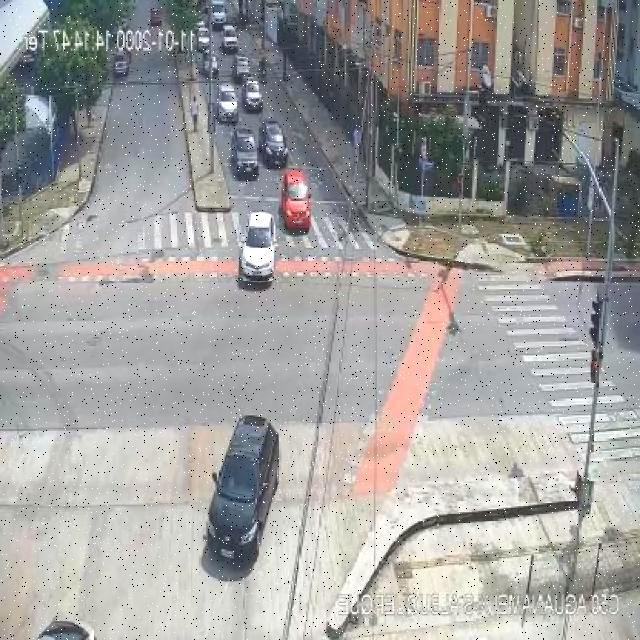Car: (204, 412, 282, 573), (238, 212, 276, 283), (280, 169, 312, 233), (258, 119, 288, 165), (232, 128, 260, 177), (216, 84, 239, 121), (242, 81, 264, 112), (199, 52, 224, 78), (230, 56, 254, 82), (221, 26, 241, 54), (113, 52, 130, 77)
